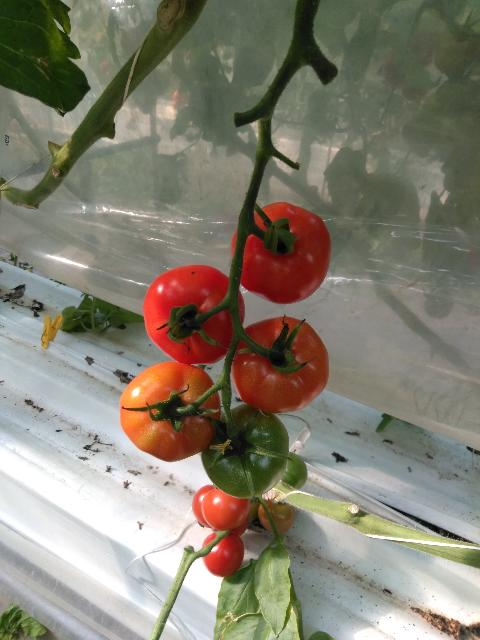l_fully_ripened: (230, 202, 332, 305), (143, 265, 245, 365), (231, 316, 330, 413), (201, 487, 251, 531), (201, 532, 244, 577), (192, 484, 217, 529), (211, 512, 249, 536)
l_green: (200, 403, 289, 498), (279, 451, 308, 491)
l_half_ripened: (119, 361, 222, 463), (259, 499, 294, 534)
